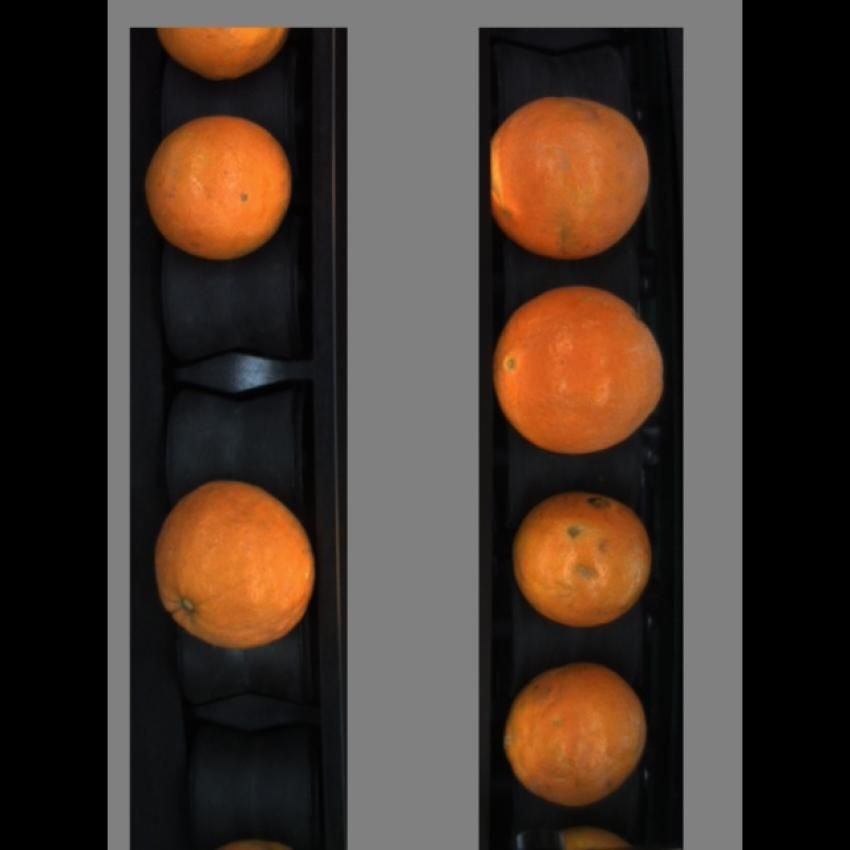Mal estado: (491, 284, 664, 459), (151, 478, 317, 656), (485, 99, 662, 264), (141, 118, 298, 264), (500, 660, 652, 808), (512, 487, 658, 635), (153, 30, 295, 79)
